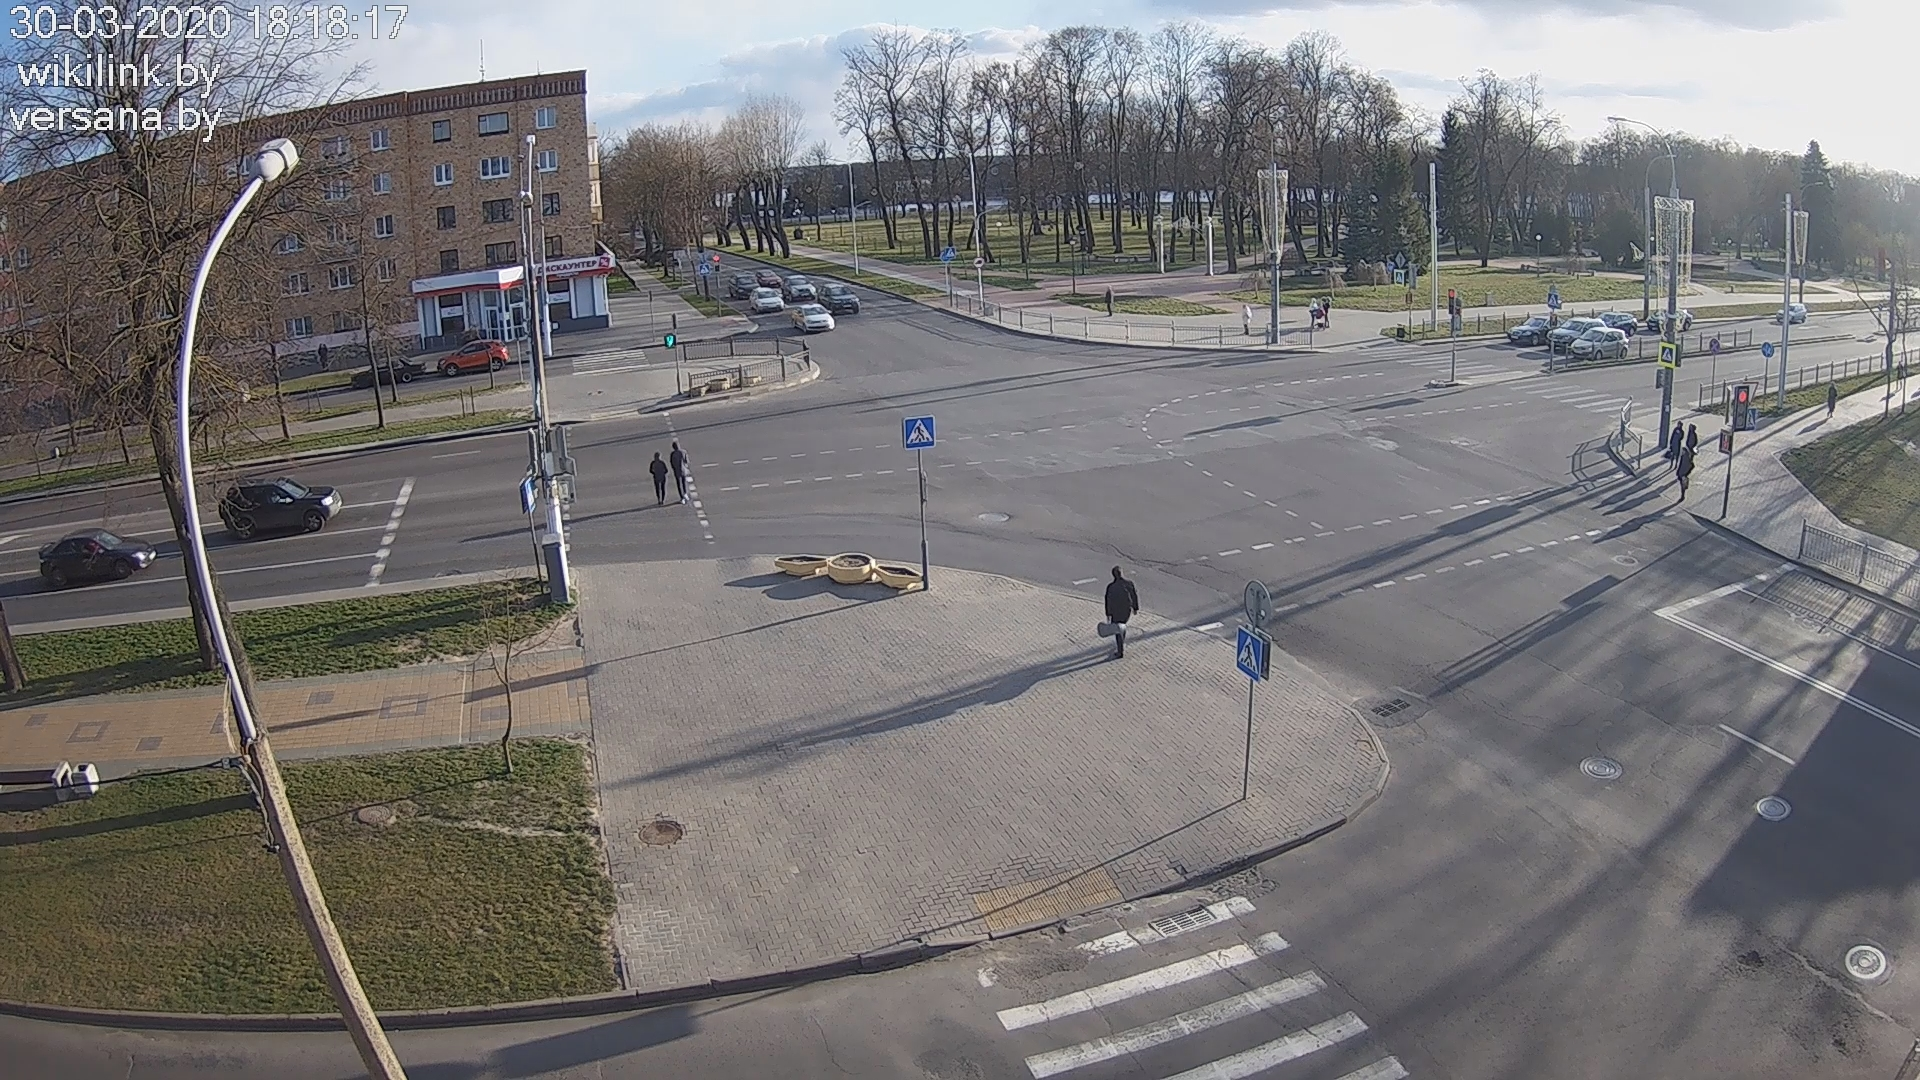car: (218, 476, 343, 541), (38, 527, 157, 585), (436, 339, 512, 377), (351, 355, 427, 389), (1571, 326, 1629, 361), (1545, 316, 1606, 349), (1507, 315, 1567, 345), (818, 282, 860, 315), (793, 302, 835, 332), (749, 286, 785, 313), (782, 274, 816, 301), (728, 270, 760, 298), (756, 268, 782, 286)
